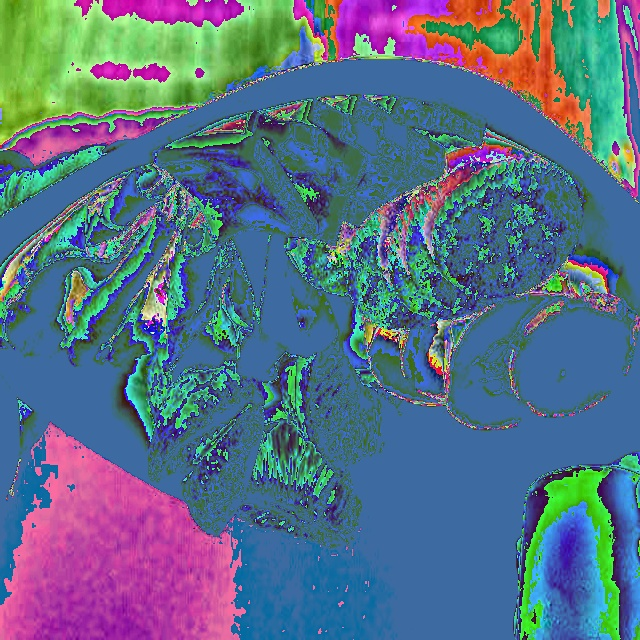background: (0, 98, 640, 551)
